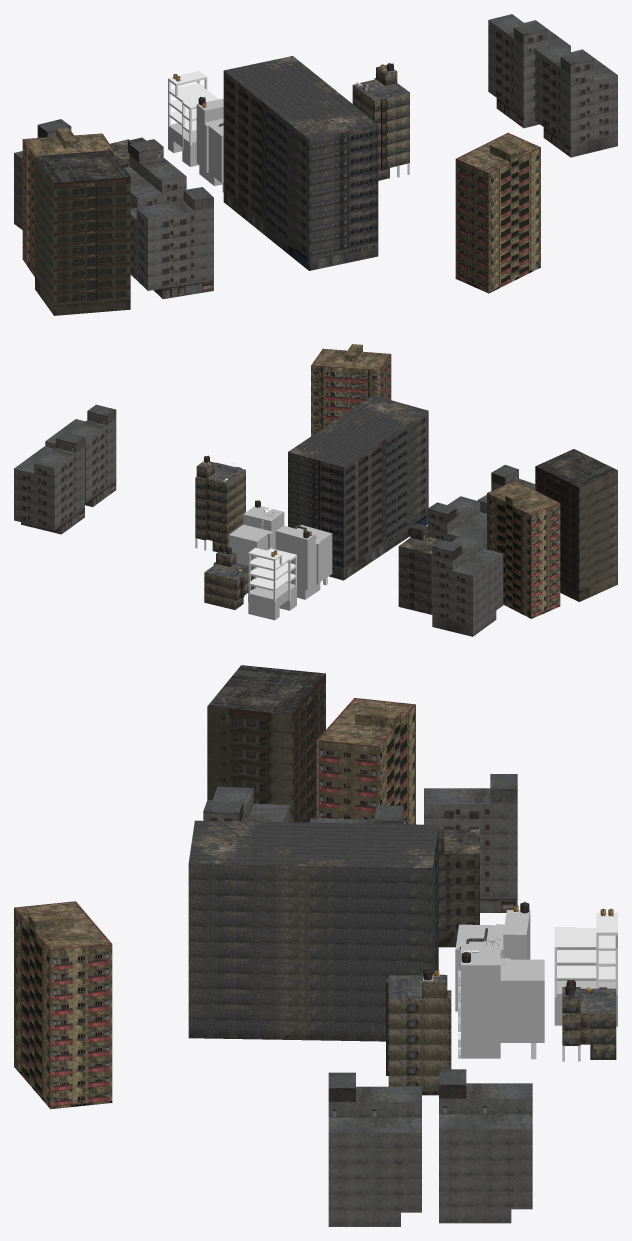
Rendered from Buildings Set 06.fbx.
The picture shows the model from 3 angles, top to bottom: view 1: azimuth 30°, elevation 25°; view 2: azimuth 150°, elevation 25°; view 3: azimuth 270°, elevation 25°; orthographic projection. The views are drawn at different scales.
Parts seen in each view (by area): view 1: Tower05, Tower02 (×5), Tower01 (×2), Tower04, LowendTall_01, BlueTall_03, ConstTower_05, Tower03; view 2: Tower05, Tower02 (×5), Tower01 (×2), Tower04, LowendTall_01, Tower03, BlueTall_03, LowendTall_02, MidrangeTall_02, ConstTower_05; view 3: Tower05, Tower02 (×5), Tower01 (×2), Tower04, MidrangeTall_02, LowendTall_01, Tower03, LowendTall_02, BlueTall_03, ConstTower_05.
Part boxes in pixels (x1=…): Tower05: x1=223, y1=56, x2=378, y2=270; Tower02 (×5): x1=14, y1=14, x2=617, y2=298; Tower01 (×2): x1=22, y1=128, x2=540, y2=293; Tower04: x1=35, y1=150, x2=130, y2=315; LowendTall_01: x1=352, y1=65, x2=409, y2=180; BlueTall_03: x1=196, y1=98, x2=223, y2=186; ConstTower_05: x1=168, y1=123, x2=198, y2=166; Tower03: x1=110, y1=137, x2=145, y2=167; Tower05: x1=288, y1=395, x2=428, y2=580; Tower02 (×5): x1=14, y1=404, x2=535, y2=636; Tower01 (×2): x1=311, y1=344, x2=560, y2=618; Tower04: x1=535, y1=449, x2=617, y2=601; LowendTall_01: x1=195, y1=461, x2=245, y2=552; Tower03: x1=398, y1=523, x2=449, y2=614; BlueTall_03: x1=275, y1=524, x2=332, y2=599; LowendTall_02: x1=204, y1=551, x2=254, y2=609; MidrangeTall_02: x1=229, y1=506, x2=284, y2=577; ConstTower_05: x1=248, y1=555, x2=296, y2=620; Tower05: x1=188, y1=820, x2=438, y2=1041; Tower02 (×5): x1=203, y1=774, x2=532, y2=1226; Tower01 (×2): x1=14, y1=698, x2=415, y2=1109; Tower04: x1=207, y1=665, x2=325, y2=822; MidrangeTall_02: x1=458, y1=944, x2=544, y2=1058; LowendTall_01: x1=386, y1=975, x2=451, y2=1095; Tower03: x1=438, y1=829, x2=479, y2=947; LowendTall_02: x1=562, y1=987, x2=616, y2=1059; BlueTall_03: x1=455, y1=910, x2=530, y2=1011; ConstTower_05: x1=554, y1=935, x2=617, y2=1026.
Size of the model in its own units: 272 by 57.98 by 180.
